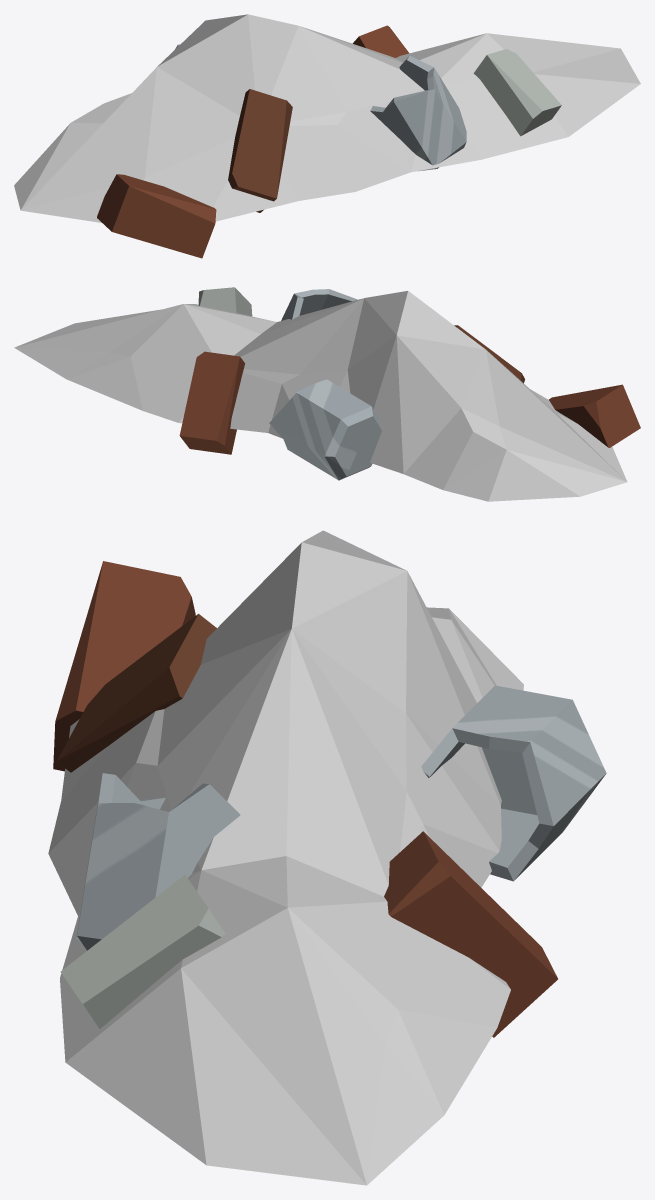
The model's file is SM_Prop_Debris_Pile_01.fbx.
The picture shows the model from 3 angles, top to bottom: view 1: azimuth 30°, elevation 25°; view 2: azimuth 150°, elevation 25°; view 3: azimuth 270°, elevation 25°; orthographic projection. The views are drawn at different scales.
Parts seen in each view (by area): view 1: SM_Prop_Debris_Pile_01; view 2: SM_Prop_Debris_Pile_01; view 3: SM_Prop_Debris_Pile_01.
Part boxes in pixels (x1,y1,x2,y2): SM_Prop_Debris_Pile_01: (14,14,640,258); SM_Prop_Debris_Pile_01: (14,287,640,501); SM_Prop_Debris_Pile_01: (48,530,606,1185).
Size of the model in its own units: 158 by 43.04 by 63.73.
